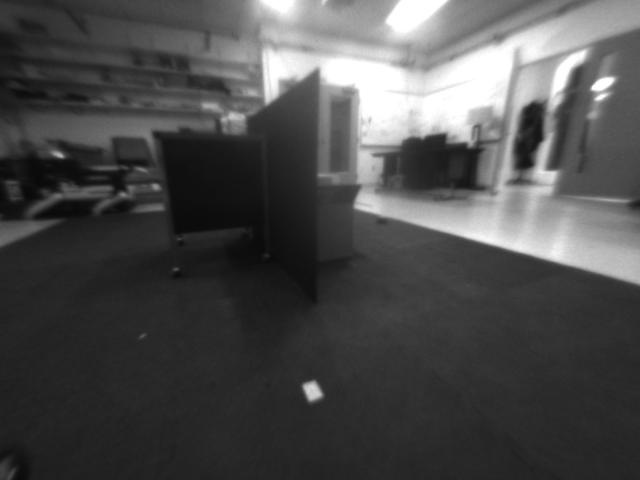dogtoy: (371, 209, 396, 230)
